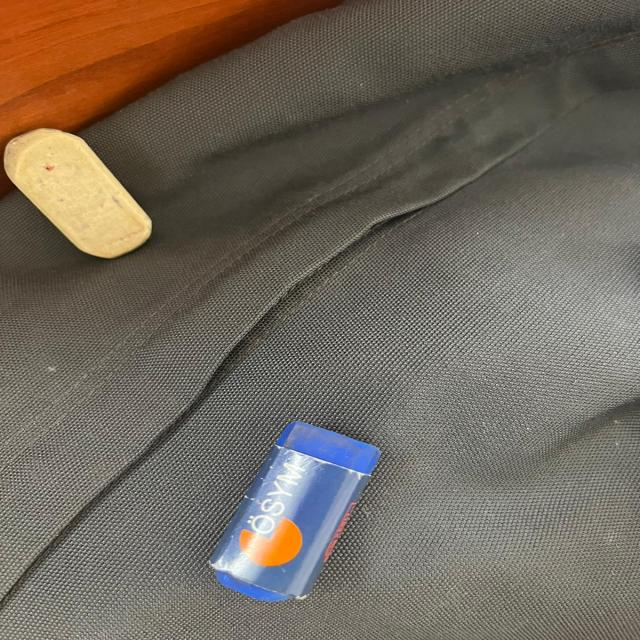eraser: (202, 411, 398, 627), (0, 119, 160, 265)
